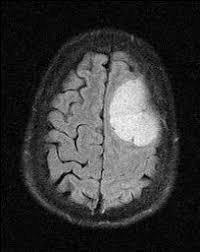Tumour-Meningioma: (96, 75, 174, 156)
